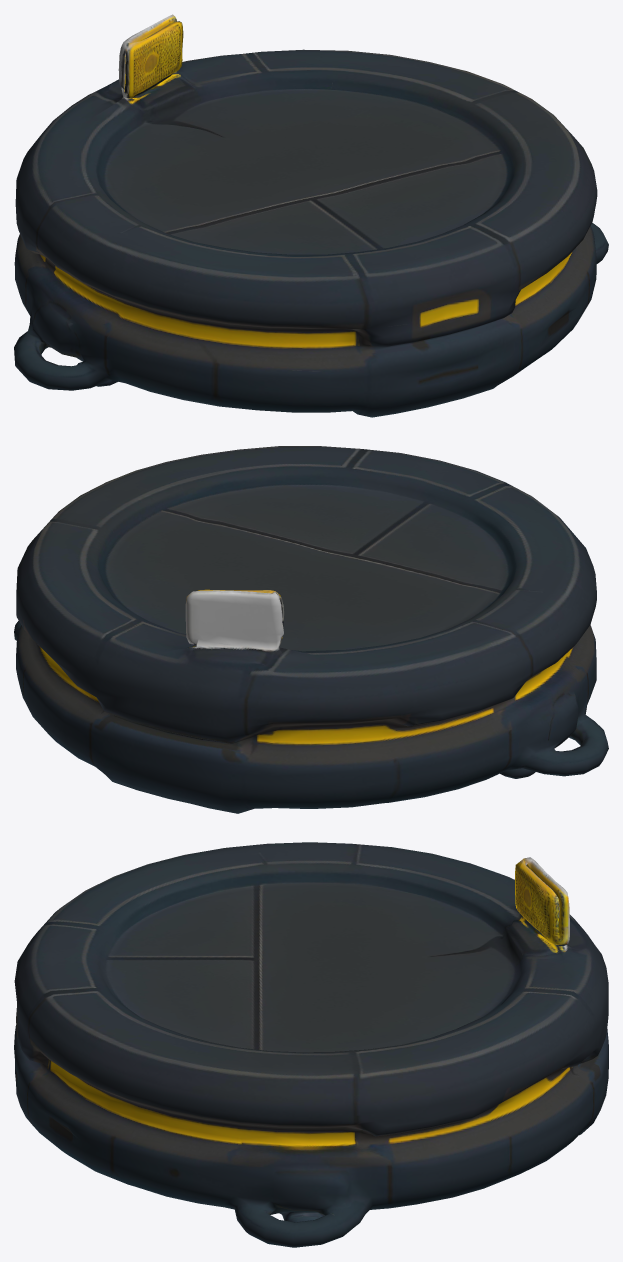
File: plat_round_yellow.obj
The picture shows the model from 3 angles, top to bottom: view 1: azimuth 30°, elevation 25°; view 2: azimuth 150°, elevation 25°; view 3: azimuth 270°, elevation 25°; orthographic projection. The views are drawn at different scales.
Parts seen in each view (by area): view 1: tripo_node_3f5a2c8e-752f-457b-9fef-d11c6aef3216; view 2: tripo_node_3f5a2c8e-752f-457b-9fef-d11c6aef3216; view 3: tripo_node_3f5a2c8e-752f-457b-9fef-d11c6aef3216.
Part boxes in pixels (bbox=[...]): tripo_node_3f5a2c8e-752f-457b-9fef-d11c6aef3216: bbox=[14, 14, 608, 417]; tripo_node_3f5a2c8e-752f-457b-9fef-d11c6aef3216: bbox=[14, 446, 608, 813]; tripo_node_3f5a2c8e-752f-457b-9fef-d11c6aef3216: bbox=[14, 842, 608, 1247].
Bounding box in the file's own units: 0.996 × 0.3776 × 0.8693.
